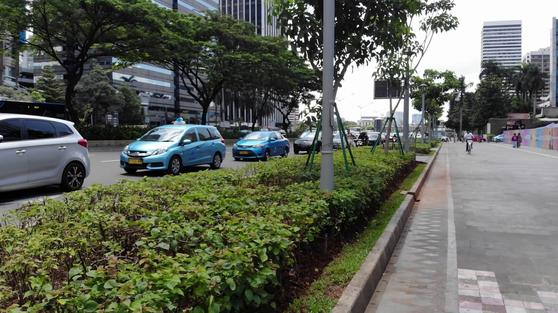bike: (458, 128, 481, 158)
